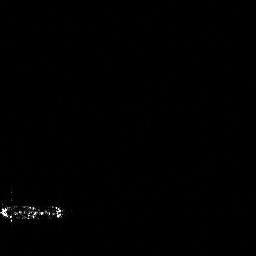ship: (1, 191, 72, 224)
